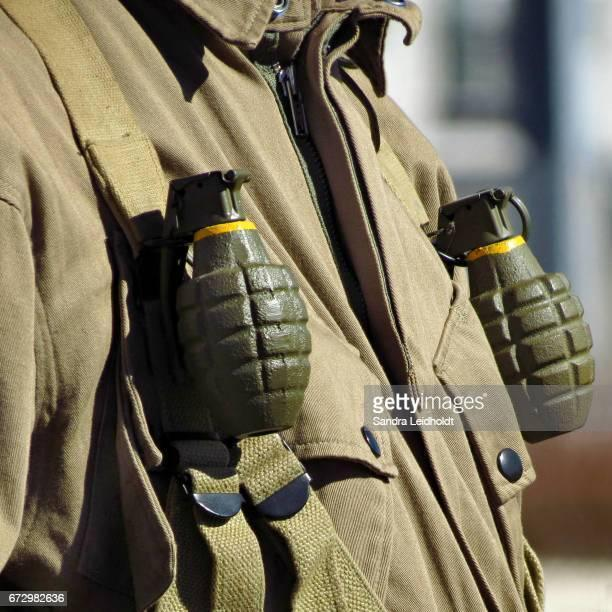Grenade: (156, 168, 311, 438), (434, 183, 594, 443)
